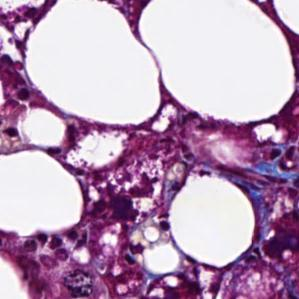inflammation: (19, 231, 75, 272), (126, 165, 161, 204)
